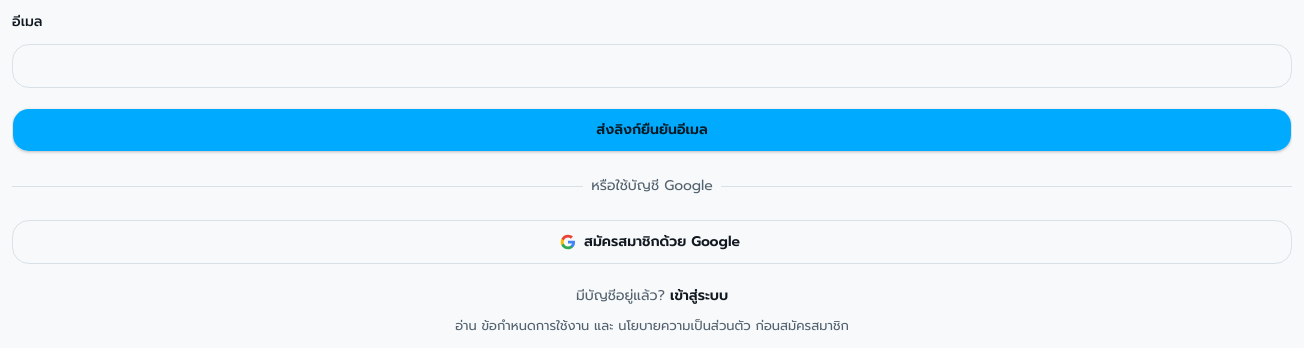
Test: auth safe-return integration › shows neutral recovery actions instead of silently redirecting when registration cannot sign in
Type "private@example.com" into the field named "email" at (652, 66), box [12,44,1292,88]
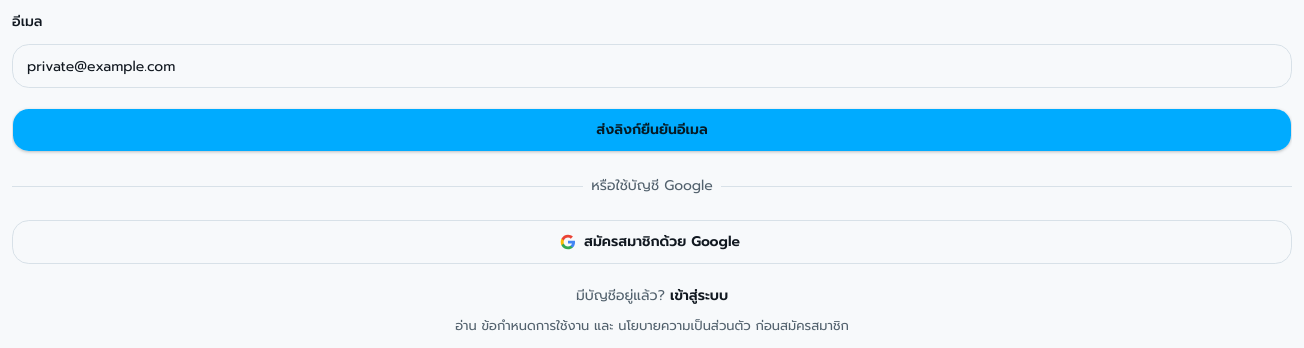
Submit the form, box [12,12,1292,152]
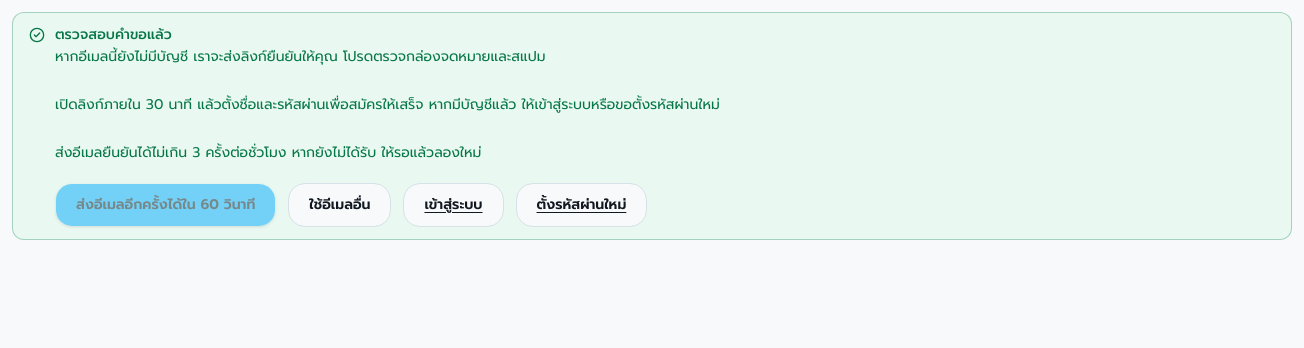
Expected: the text "private@example.com" is not shown
Expected: the text "ตรวจสอบคำขอแล้ว" is shown, [55,24,172,45]
